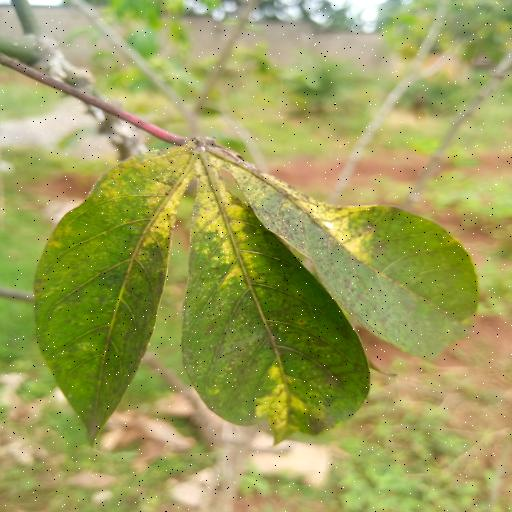Cassava_Mosaic: (32, 134, 489, 450)
